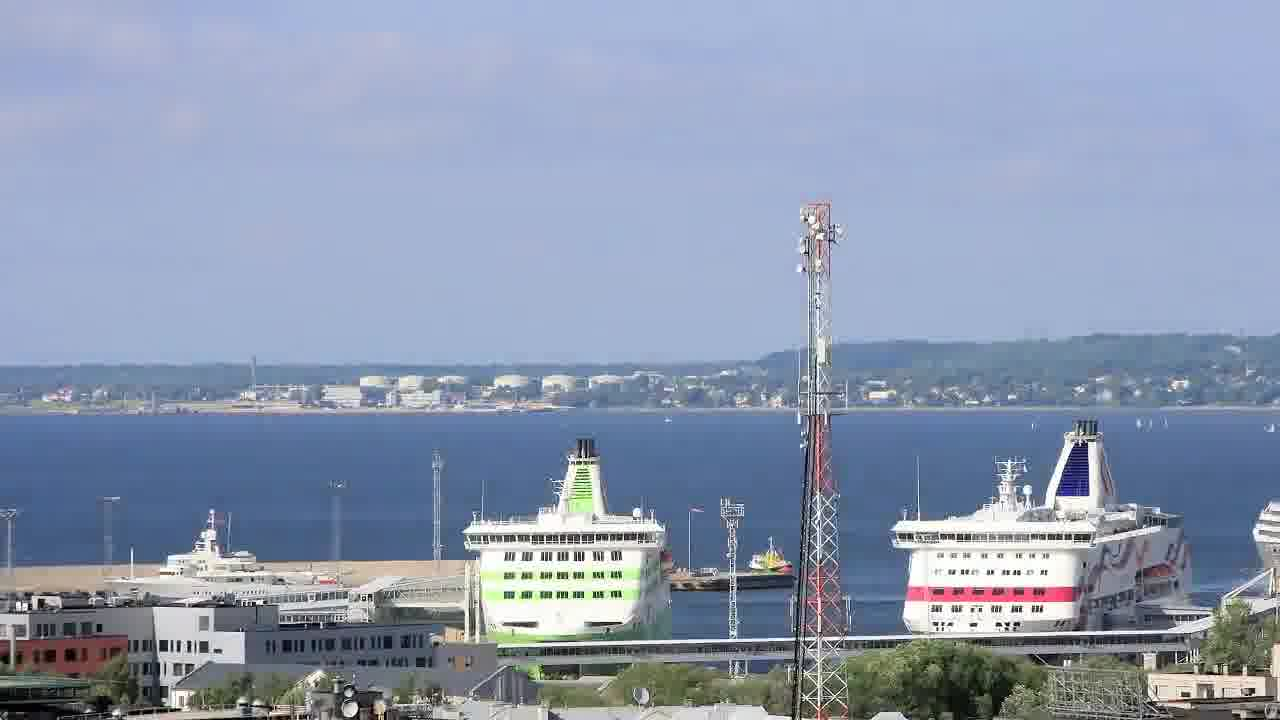type-3: (868, 415, 1225, 638), (436, 434, 694, 670), (84, 511, 349, 604), (1235, 465, 1279, 608)
